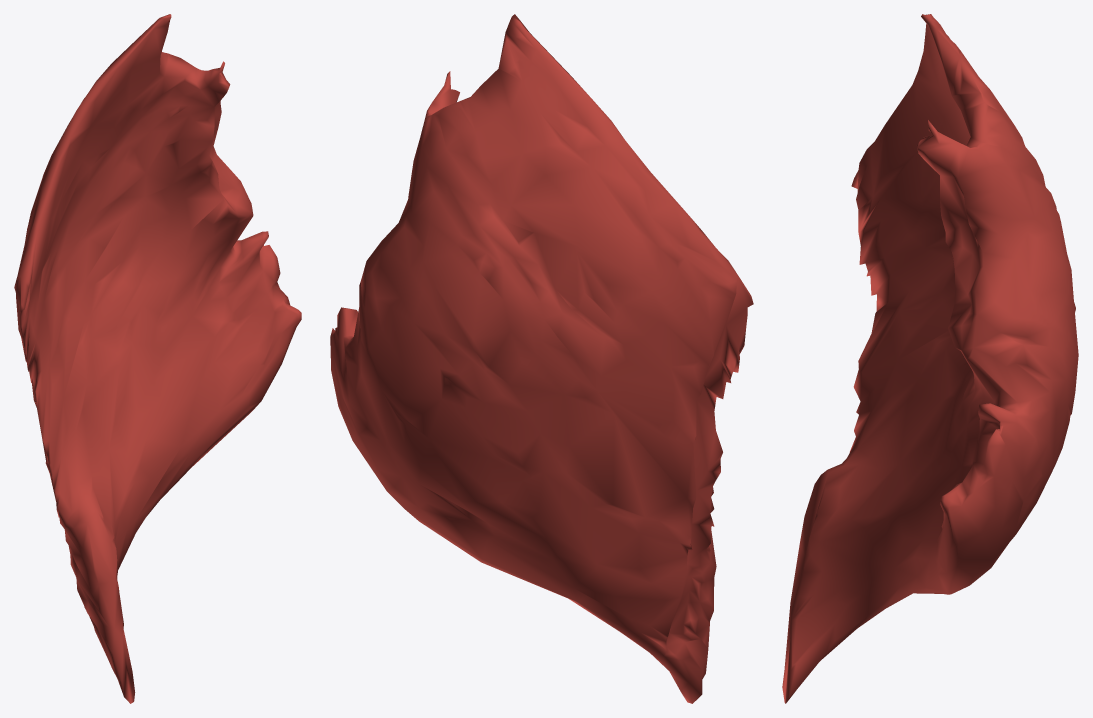
Rendered from musculos-gluteus-maximus-muscle-r.glb.
The picture shows the model from 3 angles, left to right: view 1: azimuth 30°, elevation 25°; view 2: azimuth 150°, elevation 25°; view 3: azimuth 270°, elevation 25°; orthographic projection. The views are drawn at different scales.
Visible parts, largest first — view 1: Gluteus maximus muscle.r; view 2: Gluteus maximus muscle.r; view 3: Gluteus maximus muscle.r.
Boxes of the visible parts, bbox=[...] form: Gluteus maximus muscle.r: bbox=[14, 14, 301, 703]; Gluteus maximus muscle.r: bbox=[330, 14, 753, 703]; Gluteus maximus muscle.r: bbox=[782, 14, 1078, 703].
Bounding box in the file's own units: 0.1454 × 0.2695 × 0.097.
